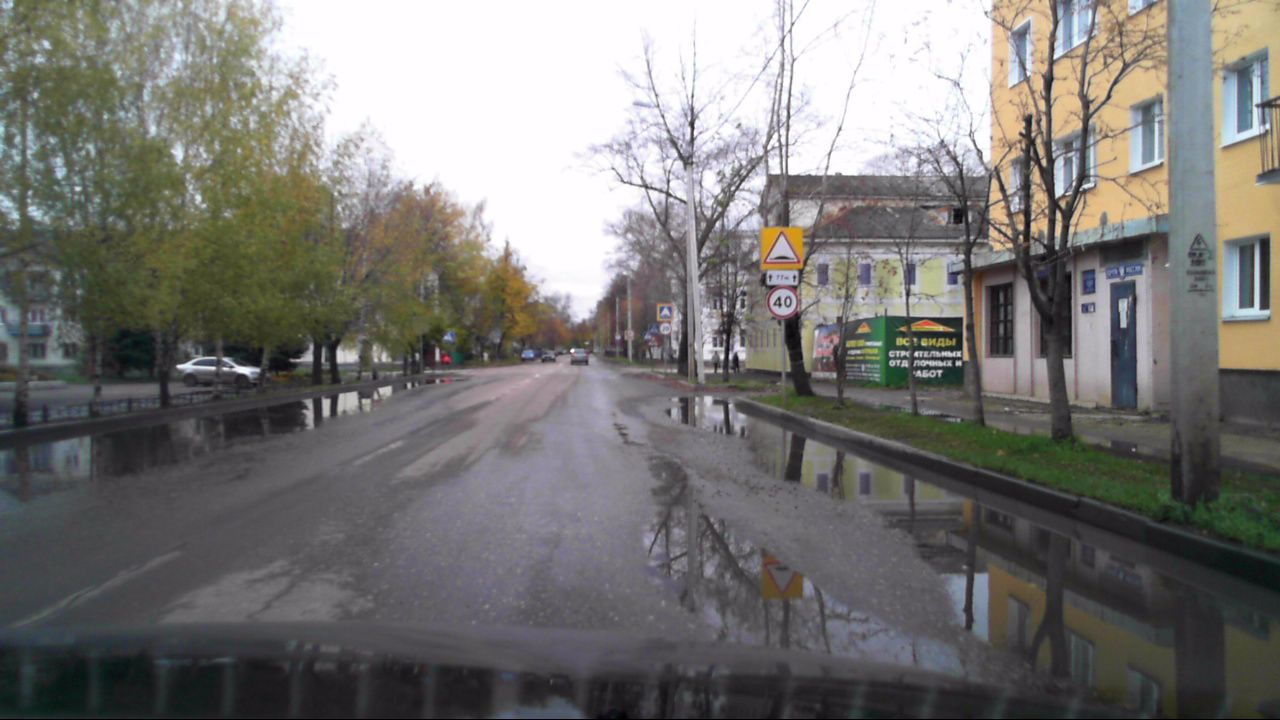speed_warning_40: (766, 287, 799, 319)
